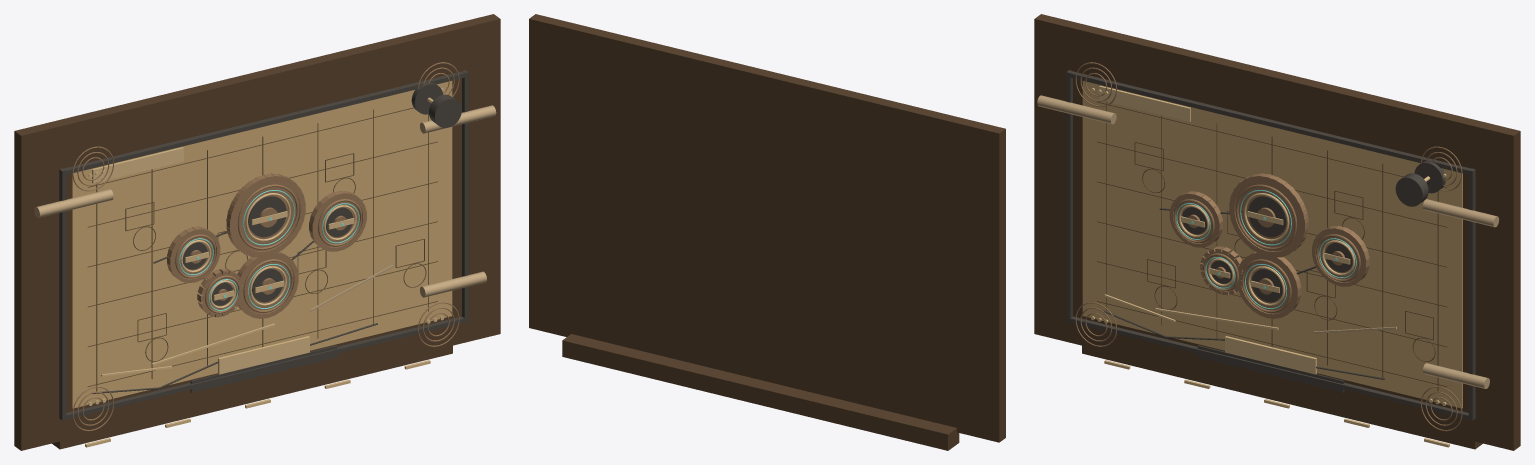
The model's file is liquid-memory-workstation.glb.
The picture shows the model from 3 angles, left to right: view 1: azimuth 30°, elevation 25°; view 2: azimuth 150°, elevation 25°; view 3: azimuth 330°, elevation 25°; orthographic projection.
Parts seen in each view (by area): view 1: main_blueprint_parchment_sheet, desk_slab_dark_walnut, front_drawer_bank_shadow_mass, top_blackened_iron_rail, bottom_blackened_iron_rail, left_blackened_iron_rail, gear_games_main_cast_bronze, bottom_schematic_v09_engraved_plate, right_blackened_iron_rail, top_left_blueprint_nav_stamped_plate, bottom_subtitle_plate, rolled_parchment_scroll_0 (+11 smaller); view 2: desk_slab_dark_walnut, front_drawer_bank_shadow_mass; view 3: main_blueprint_parchment_sheet, desk_slab_dark_walnut, front_drawer_bank_shadow_mass, top_blackened_iron_rail, bottom_blackened_iron_rail, right_blackened_iron_rail, left_blackened_iron_rail, gear_games_main_cast_bronze, bottom_schematic_v09_engraved_plate, top_left_blueprint_nav_stamped_plate, bottom_subtitle_plate, rolled_parchment_scroll_0 (+11 smaller).
Part boxes in pixels (left/top/right/bottom): main_blueprint_parchment_sheet: left=72, top=81, right=452, bottom=408; desk_slab_dark_walnut: left=14, top=14, right=500, bottom=450; front_drawer_bank_shadow_mass: left=52, top=345, right=452, bottom=449; top_blackened_iron_rail: left=64, top=71, right=465, bottom=174; bottom_blackened_iron_rail: left=65, top=316, right=465, bottom=419; left_blackened_iron_rail: left=59, top=168, right=66, bottom=420; gear_games_main_cast_bronze: left=235, top=181, right=299, bottom=251; bottom_schematic_v09_engraved_plate: left=218, top=336, right=309, bottom=374; right_blackened_iron_rail: left=462, top=70, right=468, bottom=321; top_left_blueprint_nav_stamped_plate: left=92, top=147, right=183, bottom=183; bottom_subtitle_plate: left=190, top=345, right=337, bottom=392; rolled_parchment_scroll_0: left=34, top=189, right=113, bottom=217; desk_slab_dark_walnut: left=529, top=14, right=1005, bottom=442; front_drawer_bank_shadow_mass: left=562, top=334, right=959, bottom=450; main_blueprint_parchment_sheet: left=1082, top=81, right=1462, bottom=408; desk_slab_dark_walnut: left=1034, top=14, right=1520, bottom=450; front_drawer_bank_shadow_mass: left=1082, top=345, right=1482, bottom=449; top_blackened_iron_rail: left=1069, top=71, right=1470, bottom=174; bottom_blackened_iron_rail: left=1069, top=316, right=1469, bottom=419; right_blackened_iron_rail: left=1468, top=168, right=1475, bottom=420; left_blackened_iron_rail: left=1066, top=70, right=1072, bottom=321; gear_games_main_cast_bronze: left=1235, top=181, right=1299, bottom=251; bottom_schematic_v09_engraved_plate: left=1225, top=336, right=1316, bottom=374; top_left_blueprint_nav_stamped_plate: left=1099, top=85, right=1190, bottom=121; bottom_subtitle_plate: left=1197, top=345, right=1344, bottom=392; rolled_parchment_scroll_0: left=1037, top=95, right=1116, bottom=124.
Bounding box in the file's own units: 15.6 × 10.26 × 2.37.
